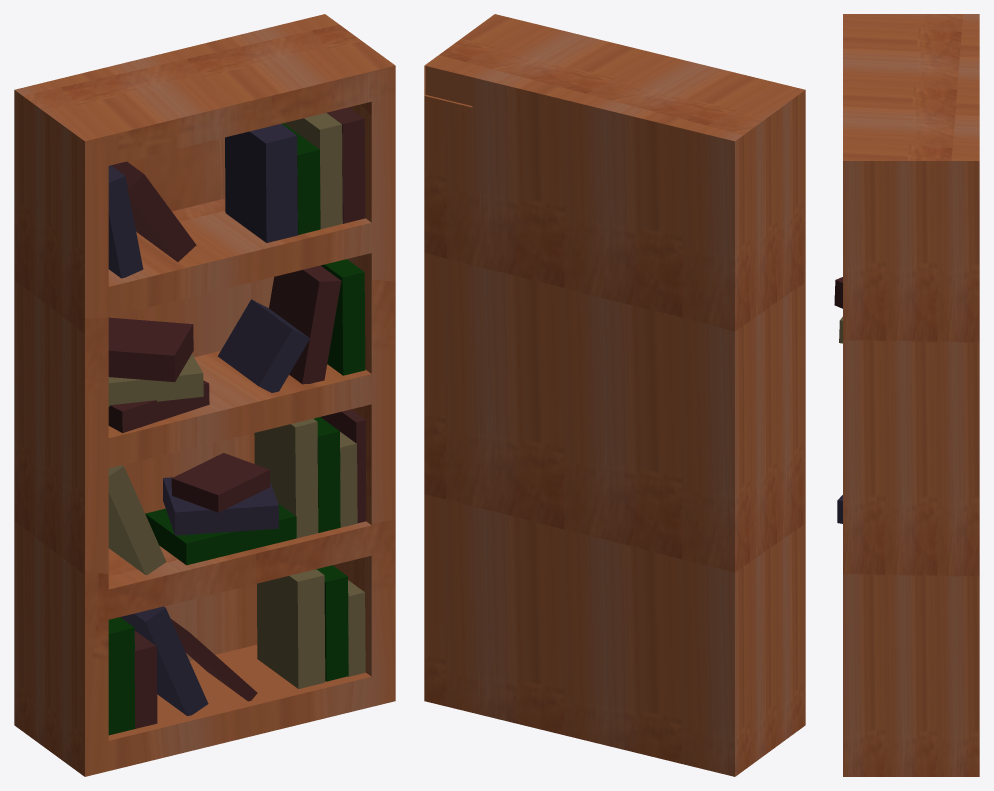
The model's file is Bookcase.fbx.
3 views of the same model, side by side, from view 1: azimuth 30°, elevation 25°; view 2: azimuth 150°, elevation 25°; view 3: azimuth 270°, elevation 25° (orthographic). The views are drawn at different scales.
Parts seen in each view (by area): view 1: polySurface17; view 2: polySurface17; view 3: polySurface17.
Part boxes in pixels (x1,y1,x2,y2): polySurface17: [14, 14, 395, 776]; polySurface17: [424, 14, 805, 776]; polySurface17: [834, 14, 979, 776].
Bounding box in the file's own units: 8.07 × 15.76 × 3.36.
5 materials, 1 textured.
